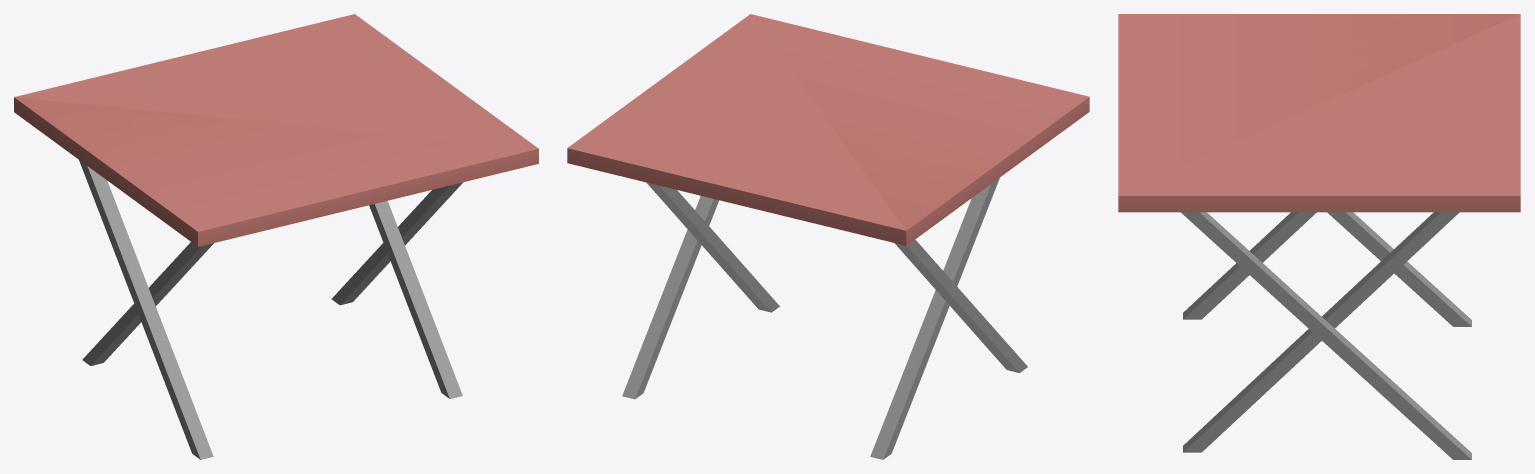
Rendered from Table.fbx.
The picture shows the model from 3 angles, left to right: view 1: azimuth 30°, elevation 25°; view 2: azimuth 150°, elevation 25°; view 3: azimuth 270°, elevation 25°; orthographic projection. The views are drawn at different scales.
Visible parts, largest first — view 1: SM_Table_01__1_; view 2: SM_Table_01__1_; view 3: SM_Table_01__1_.
Boxes of the visible parts, bbox=[...] form: SM_Table_01__1_: bbox=[14, 14, 538, 459]; SM_Table_01__1_: bbox=[567, 14, 1089, 459]; SM_Table_01__1_: bbox=[1118, 14, 1520, 459].
Size of the model in its own units: 1723 by 1244 by 1612.
